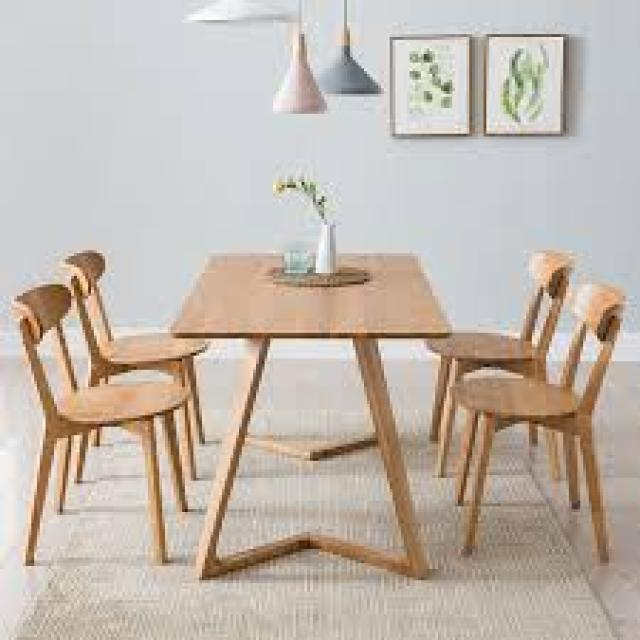table: (15, 226, 634, 572)
